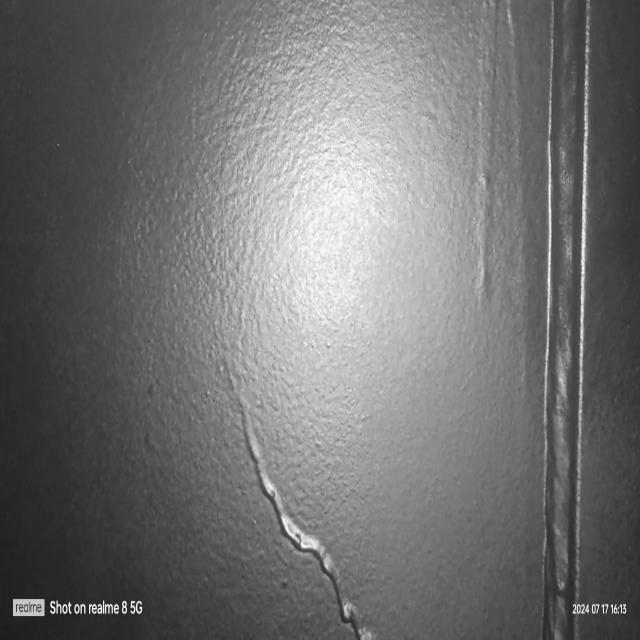paint drips: (226, 338, 377, 640), (468, 0, 541, 425)
